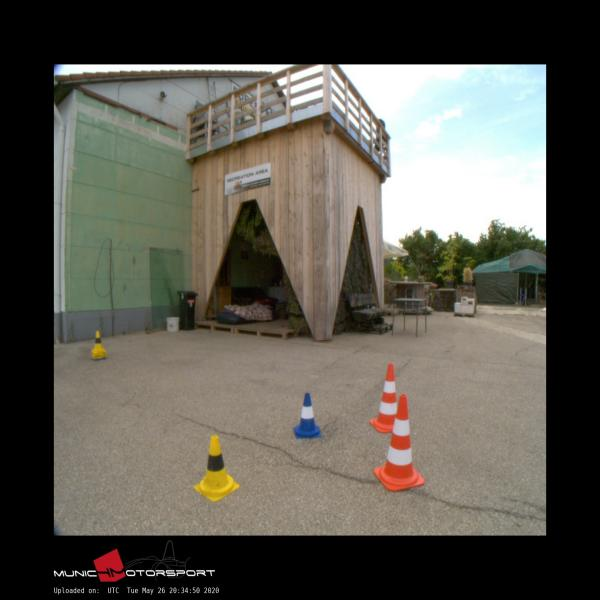blue_cone: (292, 393, 321, 437)
large_orange_cone: (374, 394, 424, 491), (370, 364, 397, 432)
yellow_cone: (193, 435, 240, 502), (92, 330, 104, 351)
